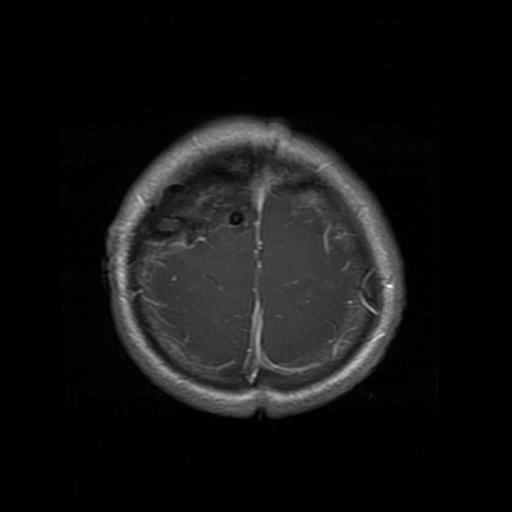Tumour-Glioma: (167, 173, 258, 246)
